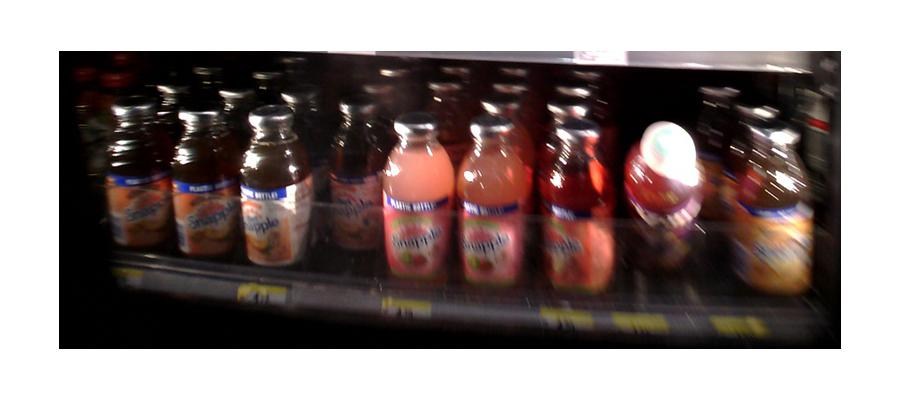bottle: (733, 122, 812, 298), (540, 114, 613, 300), (629, 122, 707, 282), (458, 118, 527, 294), (386, 111, 451, 291), (240, 107, 310, 272), (102, 94, 172, 254), (173, 105, 235, 262), (326, 99, 384, 261)
